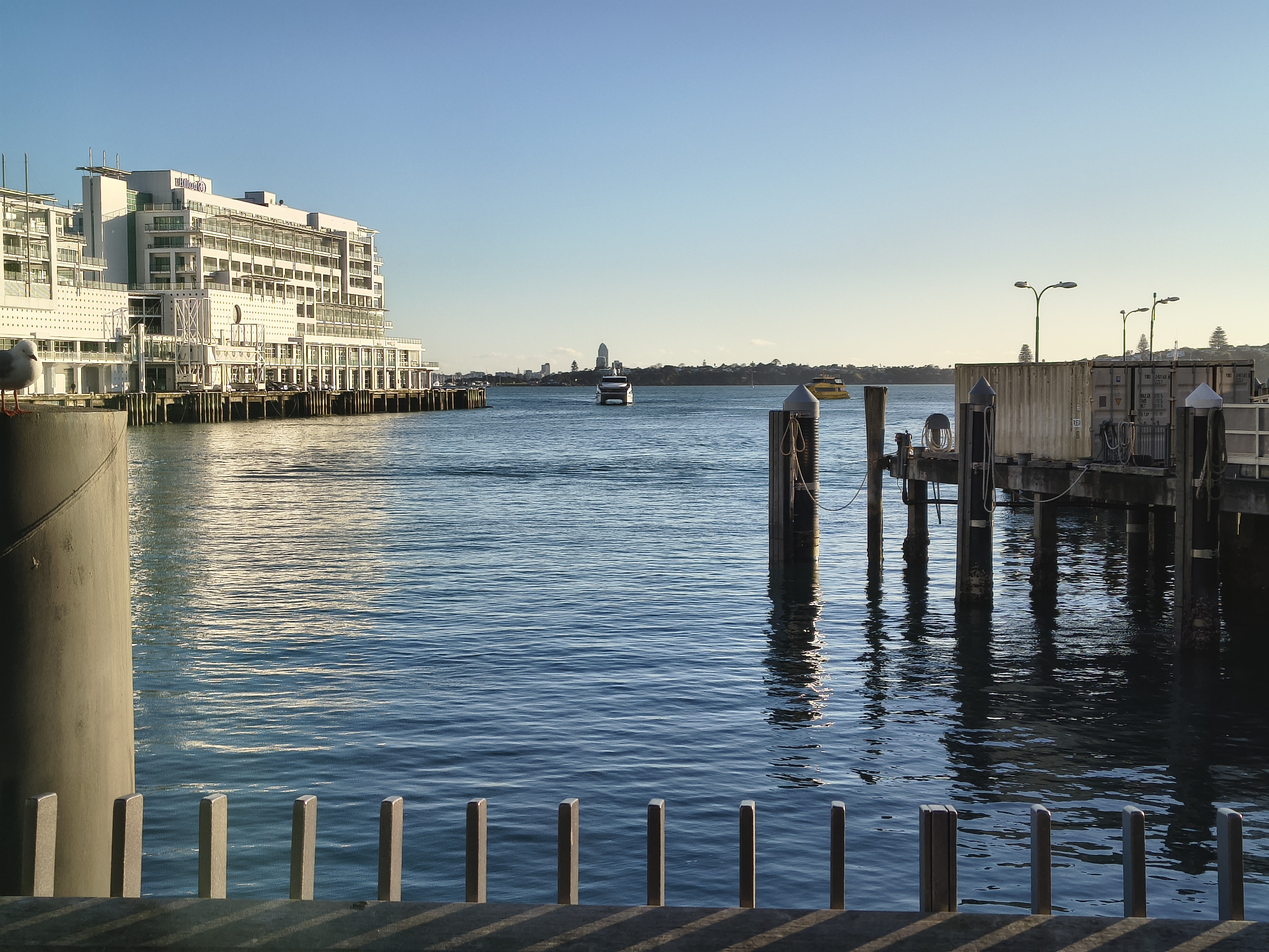ferry: (595, 376, 633, 405)
